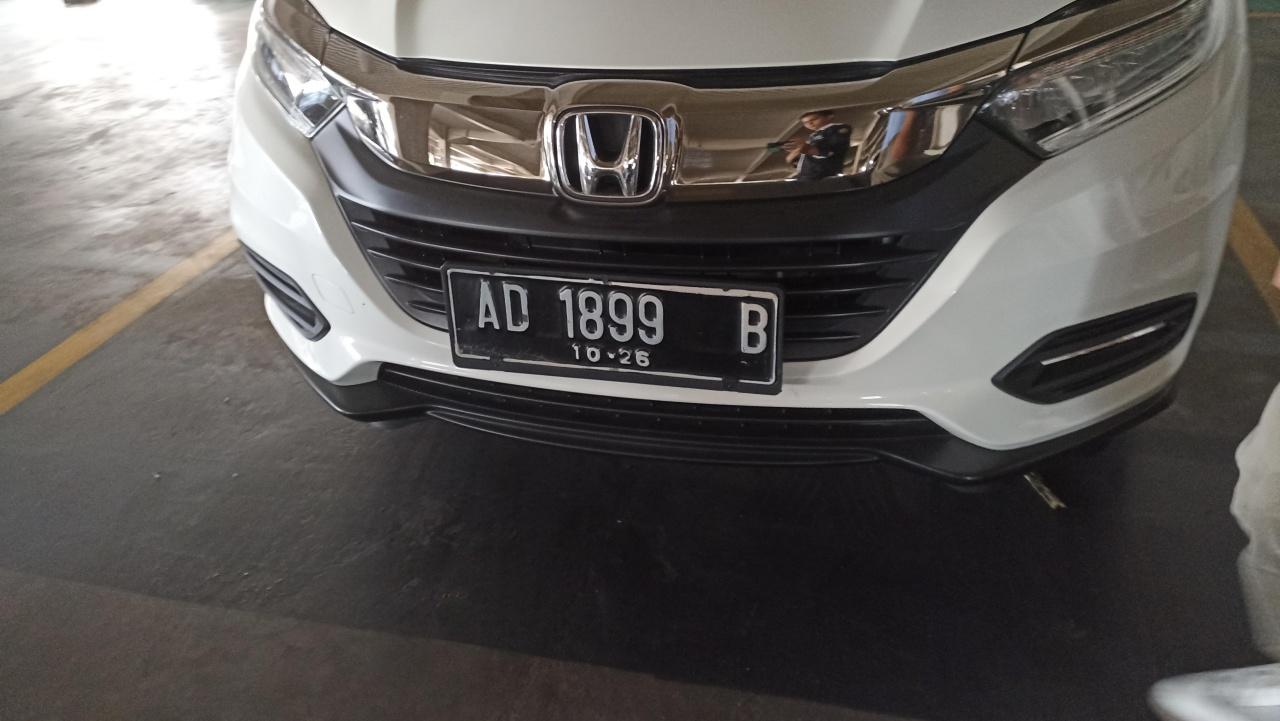plate: (453, 269, 780, 390)
